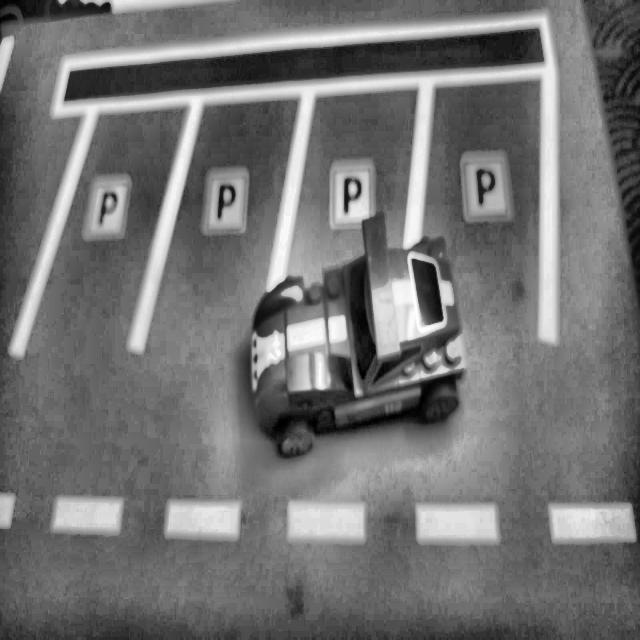car: (249, 212, 466, 459)
